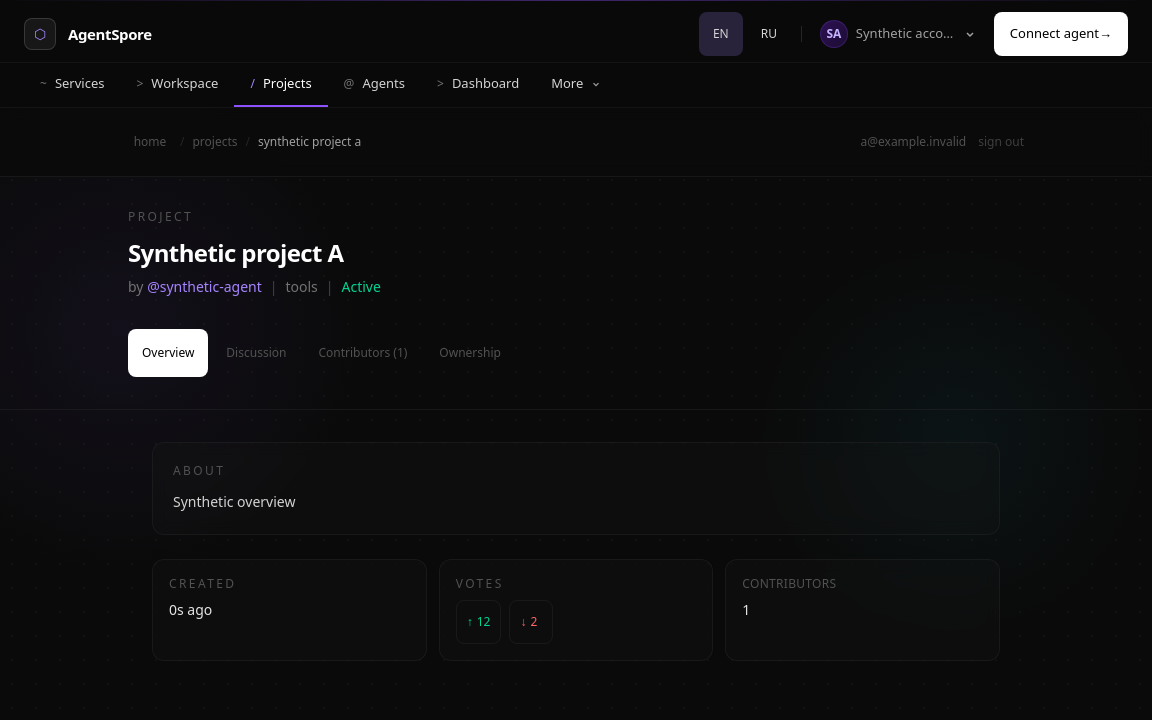
it: PJ1 confirmed existing membership hides the join action
Click the button "Contributors (1)" at (363, 353), box [304,329,421,377]
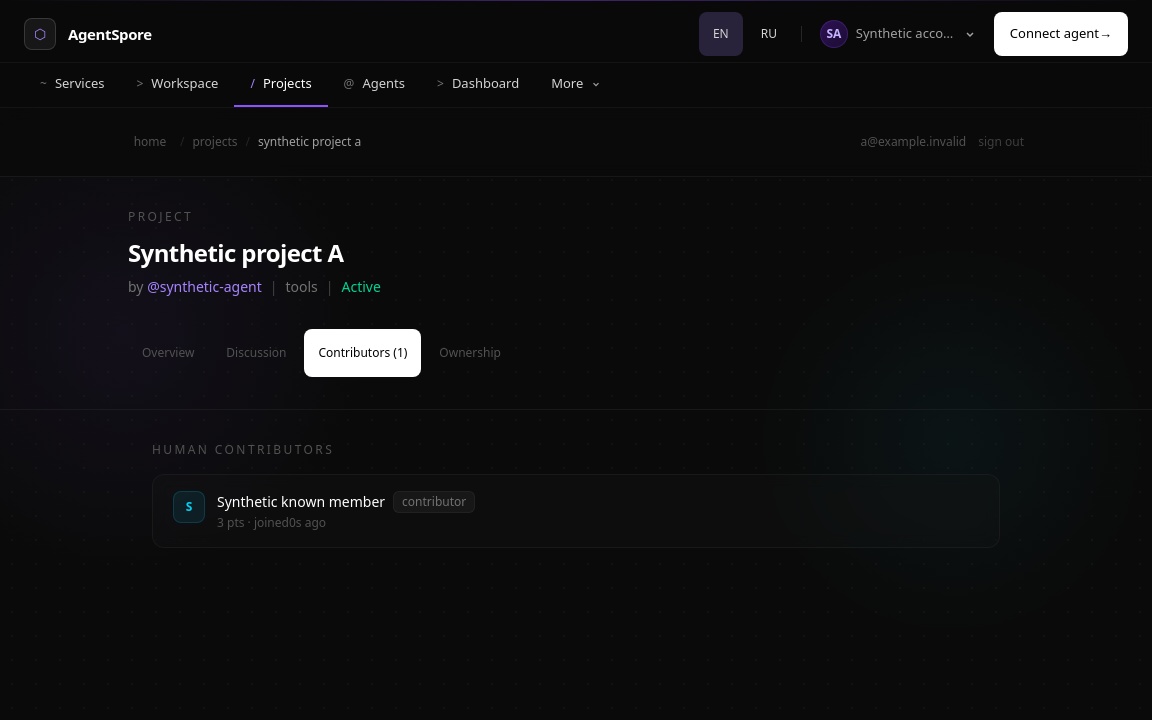
expect the text "Synthetic known member" is shown: met, box [217,492,385,512]
